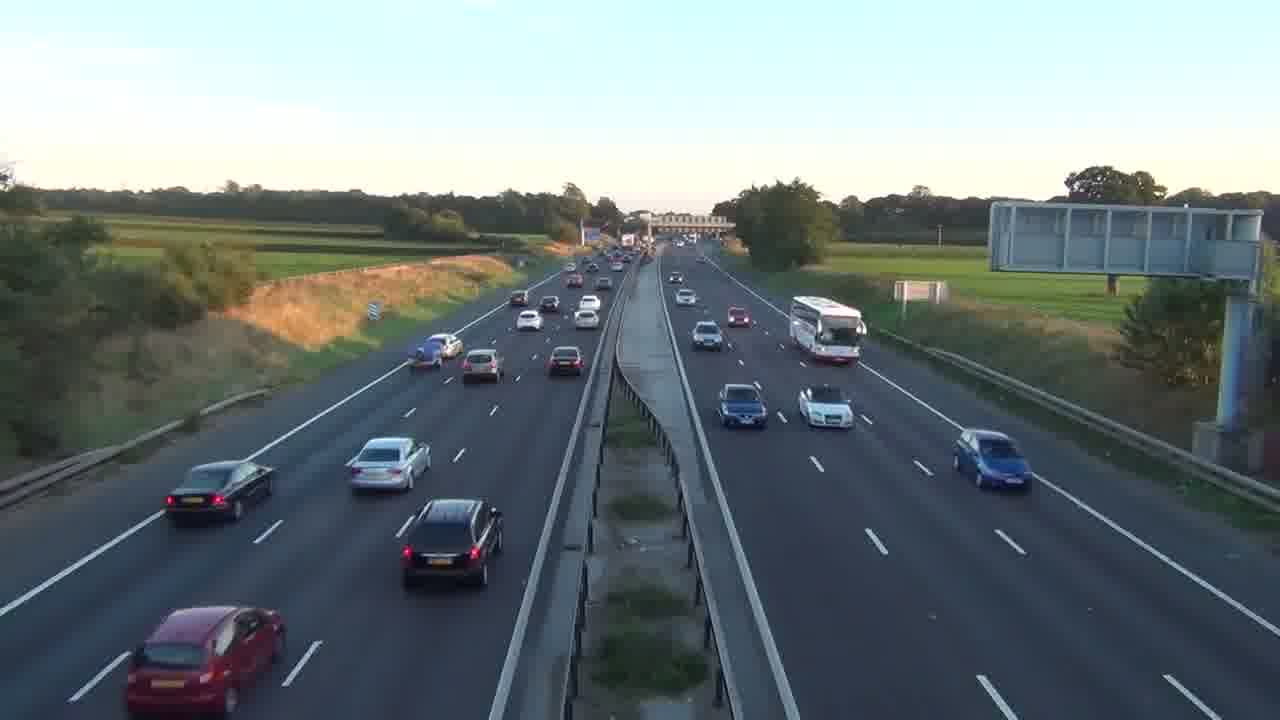bus: (788, 294, 866, 366)
car: (124, 604, 287, 717), (396, 497, 505, 587), (162, 459, 275, 524), (344, 435, 433, 493), (952, 427, 1030, 490), (797, 384, 855, 430), (717, 382, 768, 429), (460, 349, 502, 384), (546, 345, 584, 376), (690, 320, 724, 351), (727, 305, 754, 328)
